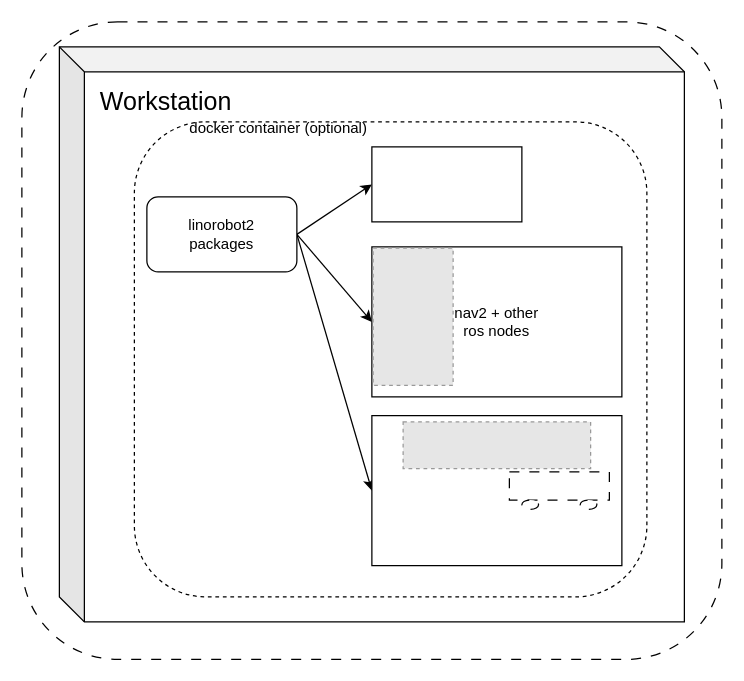
The diagram is 744 pixels wide and 681 high, and some of its shapes have lost their labels. Grey dashed boxes stand in for pictures. Here are the shapes that lost their labels. From the top down, the centre of each, then its label:
At point 446,184: "rviz".
At point 558,490: "simulated robot".
